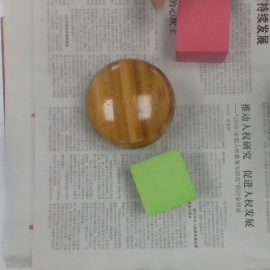chess: (85, 60, 175, 152)
